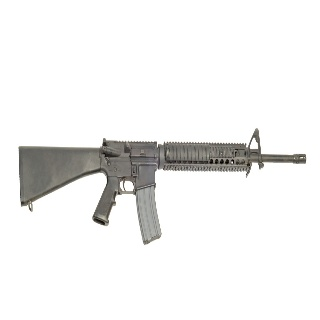rifle: (18, 126, 307, 245)
